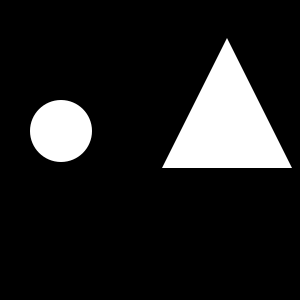rectangle: (30, 100, 92, 162)
triangle: (162, 38, 292, 168)
